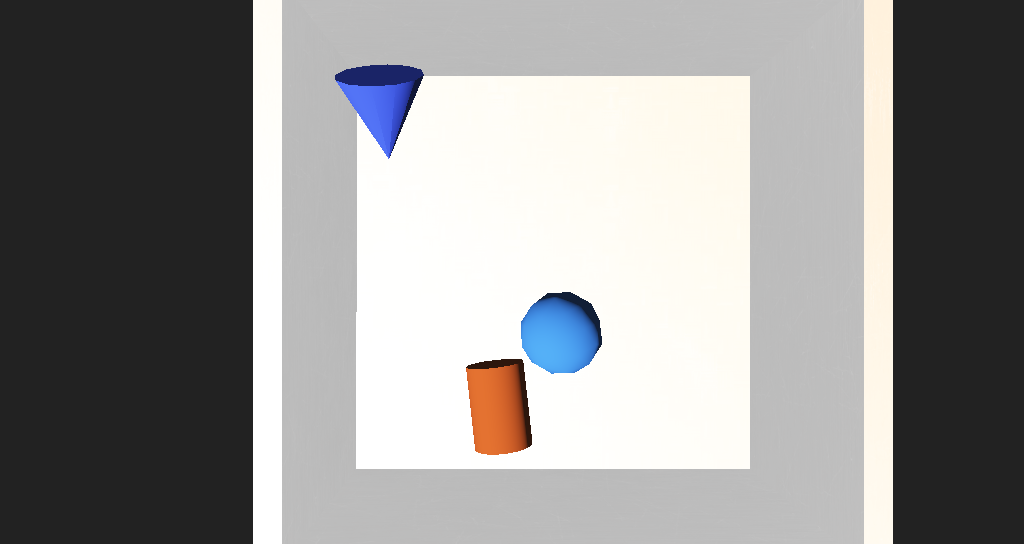cone: (438, 317, 492, 370)
cylinder: (340, 150, 414, 222)
sphere: (482, 277, 542, 324)
